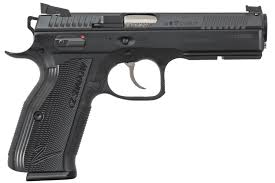gun: (8, 2, 267, 183)
